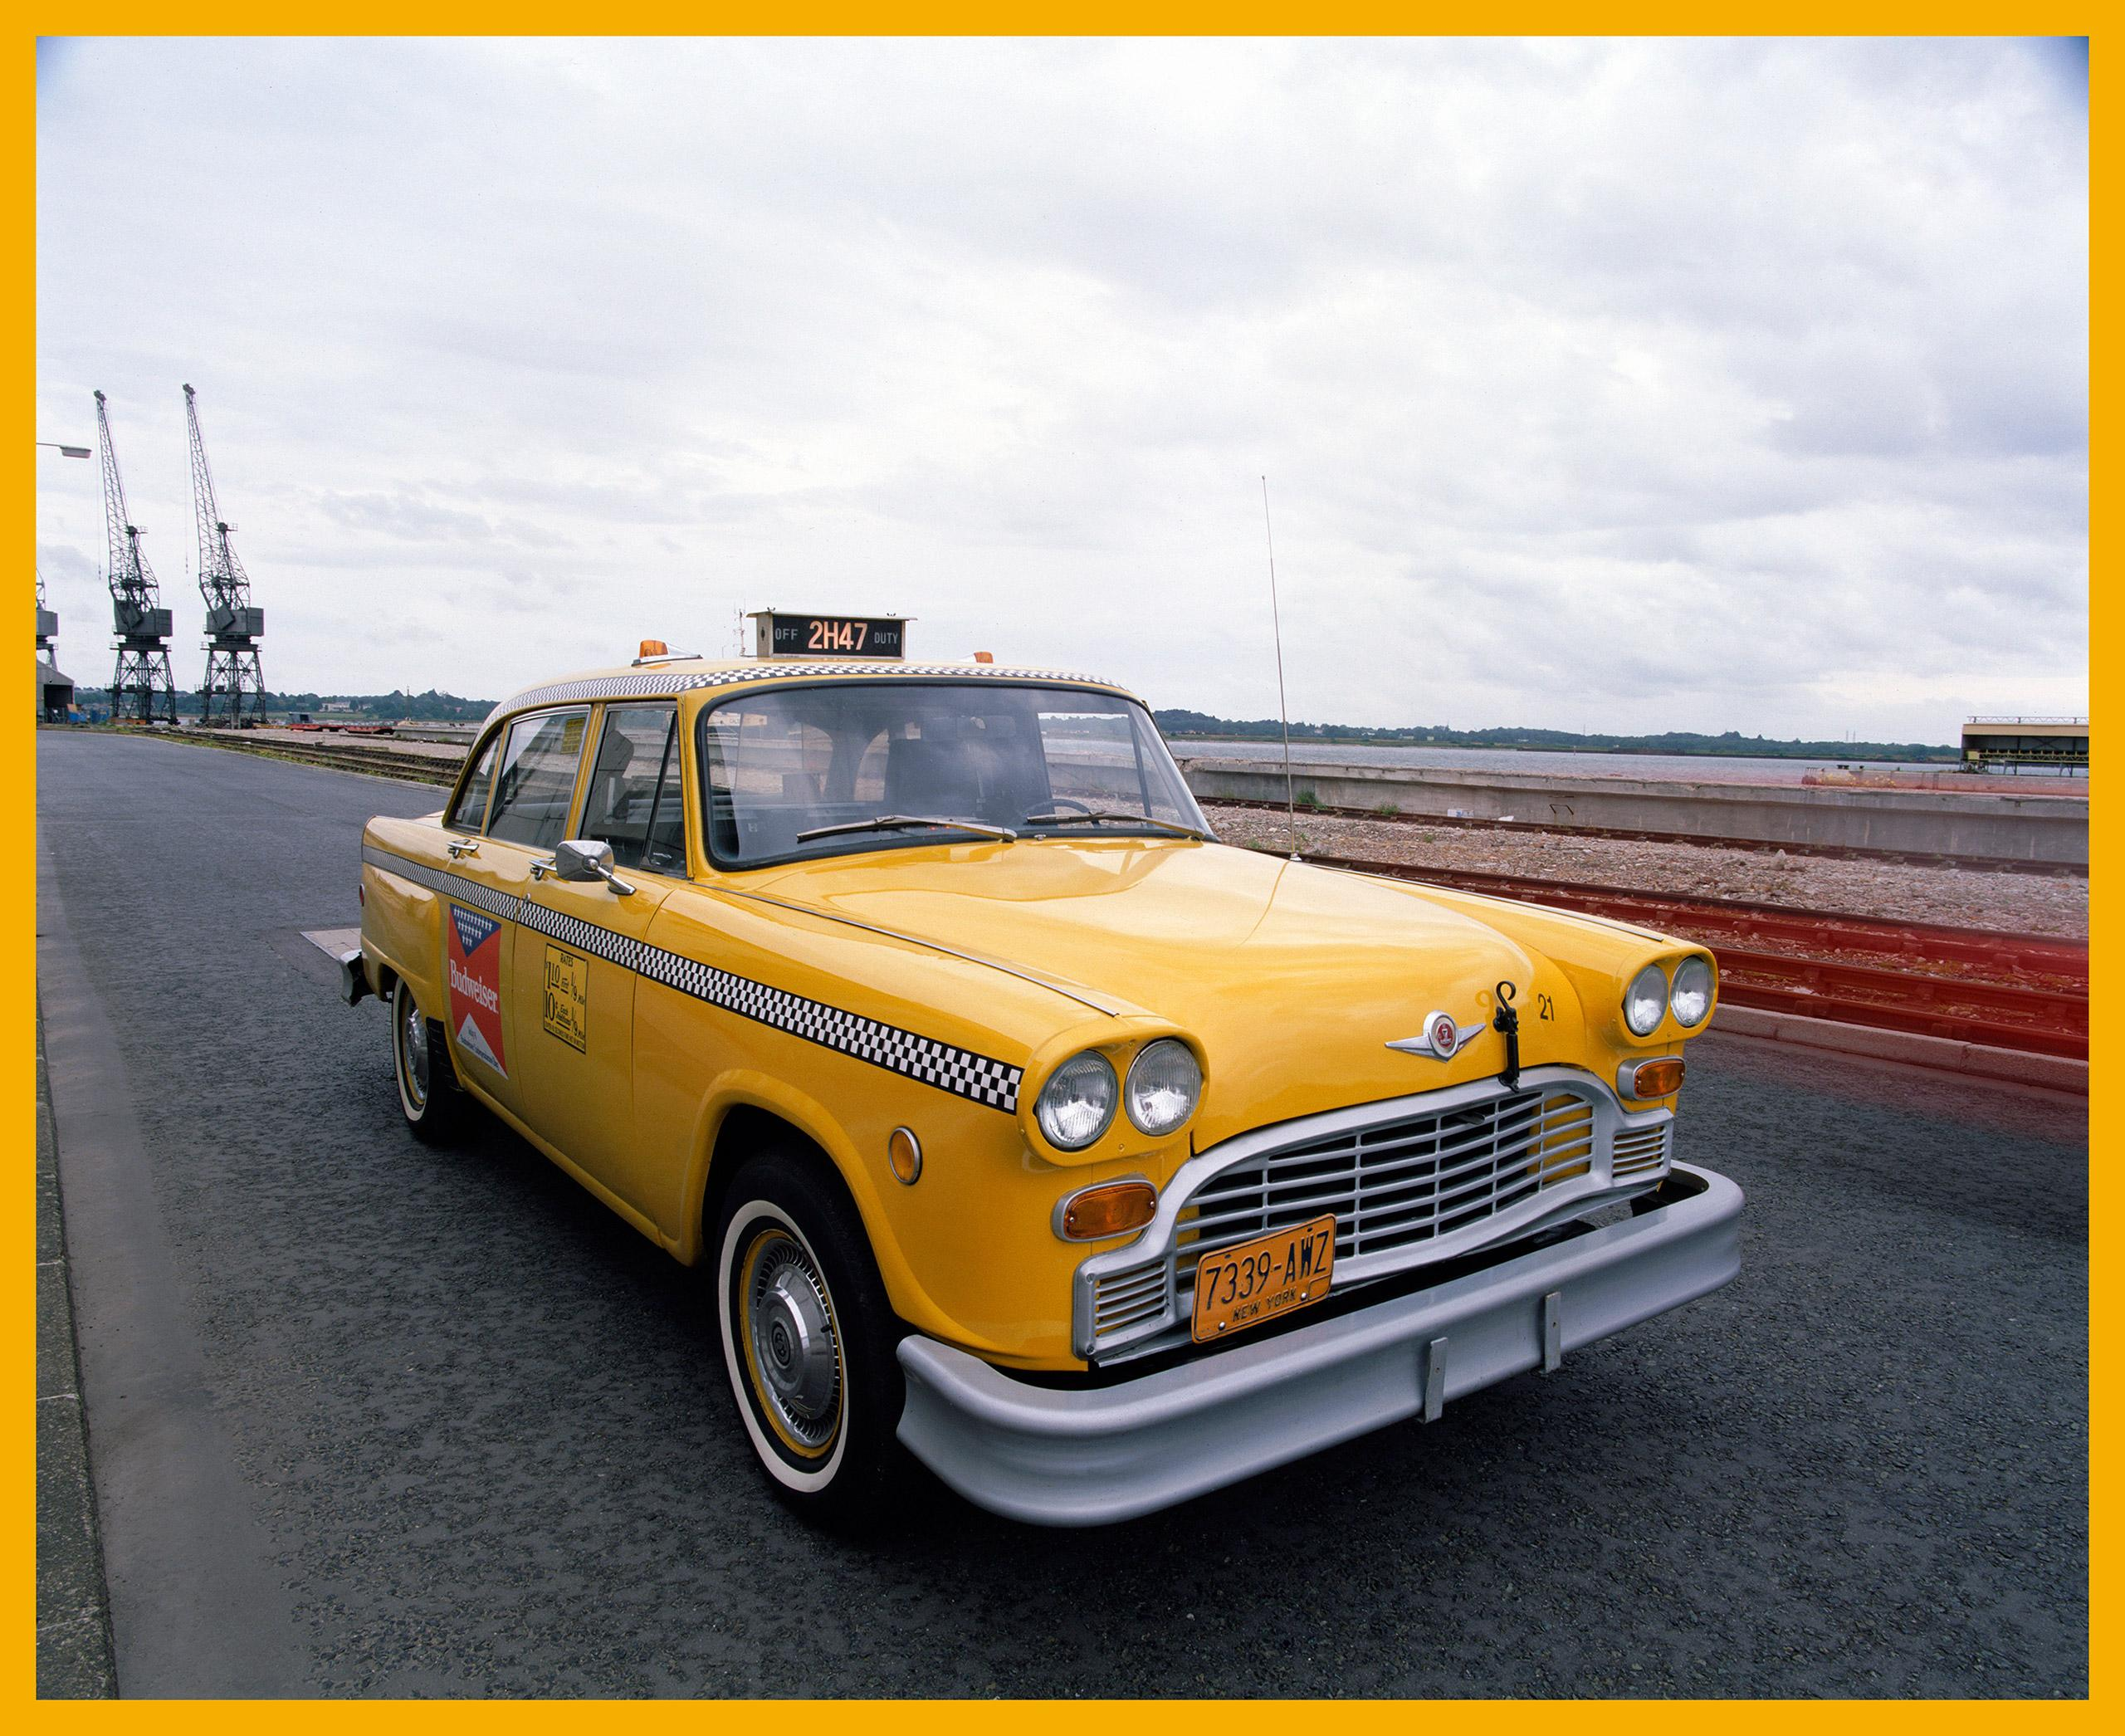taxi: (307, 604, 1714, 1565)
